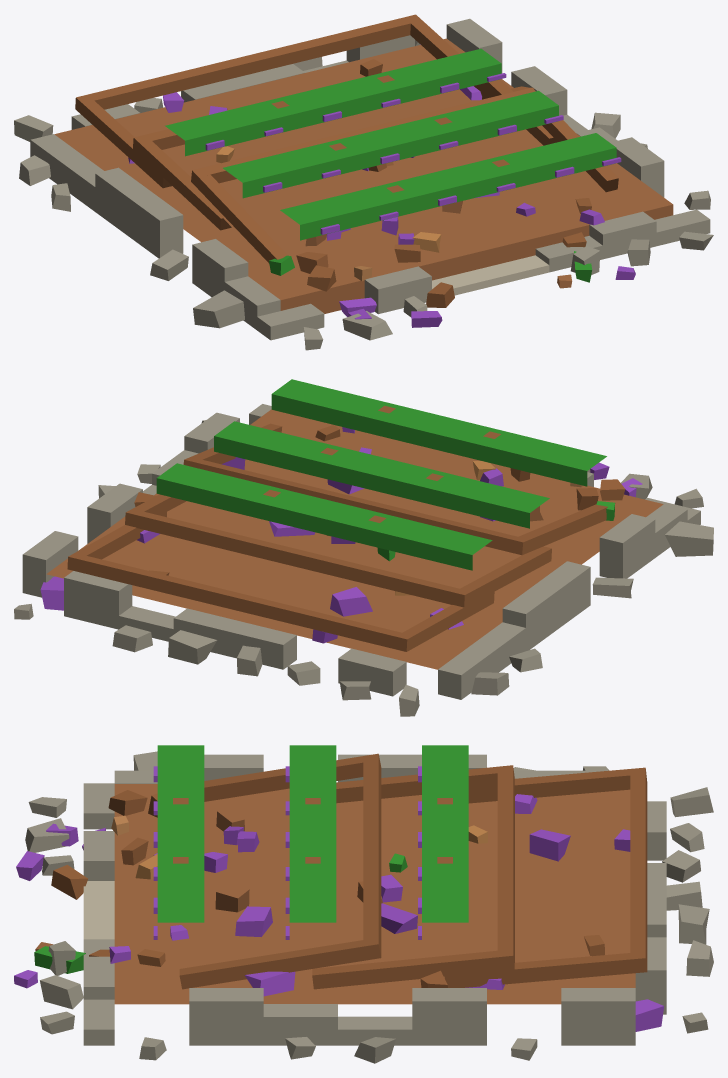
File: field_t3_v4_dmg2.glb
3 views of the same model, one above another, from view 1: azimuth 30°, elevation 25°; view 2: azimuth 150°, elevation 25°; view 3: azimuth 270°, elevation 25° (orthographic). The views are drawn at different scales.
Parts seen in each view (by area): view 1: field_t3_v4_dmg2; view 2: field_t3_v4_dmg2; view 3: field_t3_v4_dmg2.
Part boxes in pixels (x1,y1,x2,y2): field_t3_v4_dmg2: [14, 14, 713, 350]; field_t3_v4_dmg2: [14, 379, 713, 716]; field_t3_v4_dmg2: [14, 745, 713, 1063].
Size of the model in its own units: 0.8908 by 0.13 by 0.9003.
1 material, 1 textured.
